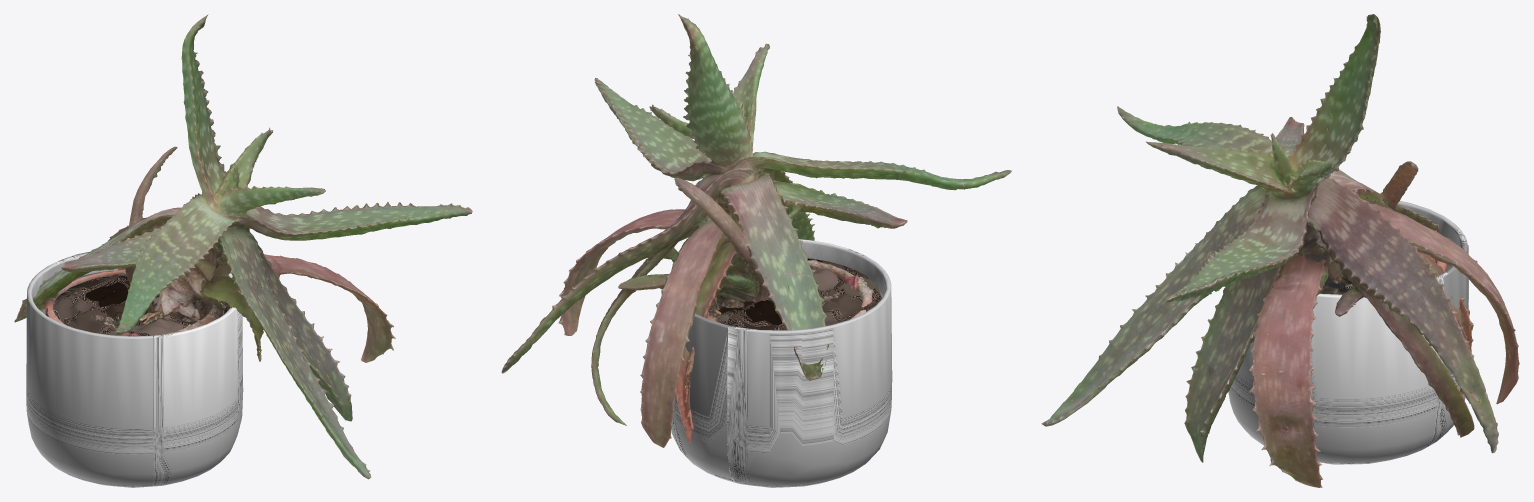
File: aloeVeraCompressed.glb
The picture shows the model from 3 angles, left to right: view 1: azimuth 30°, elevation 25°; view 2: azimuth 150°, elevation 25°; view 3: azimuth 270°, elevation 25°; orthographic projection. The views are drawn at different scales.
Parts seen in each view (by area): view 1: Model_material1_0, Object_5, Object_6; view 2: Model_material1_0, Object_5, Object_6; view 3: Model_material1_0, Object_5.
Part boxes in pixels (x1,y1,x2,y2): Model_material1_0: (14, 14, 472, 479); Object_5: (26, 251, 243, 487); Object_6: (46, 273, 229, 335); Model_material1_0: (501, 14, 1011, 447); Object_5: (671, 239, 892, 487); Object_6: (715, 258, 881, 330); Model_material1_0: (1041, 14, 1519, 487); Object_5: (1228, 201, 1468, 464).
Size of the model in its own units: 3.26 by 3.41 by 3.17.
Materials: 5 (5 with a texture image).
